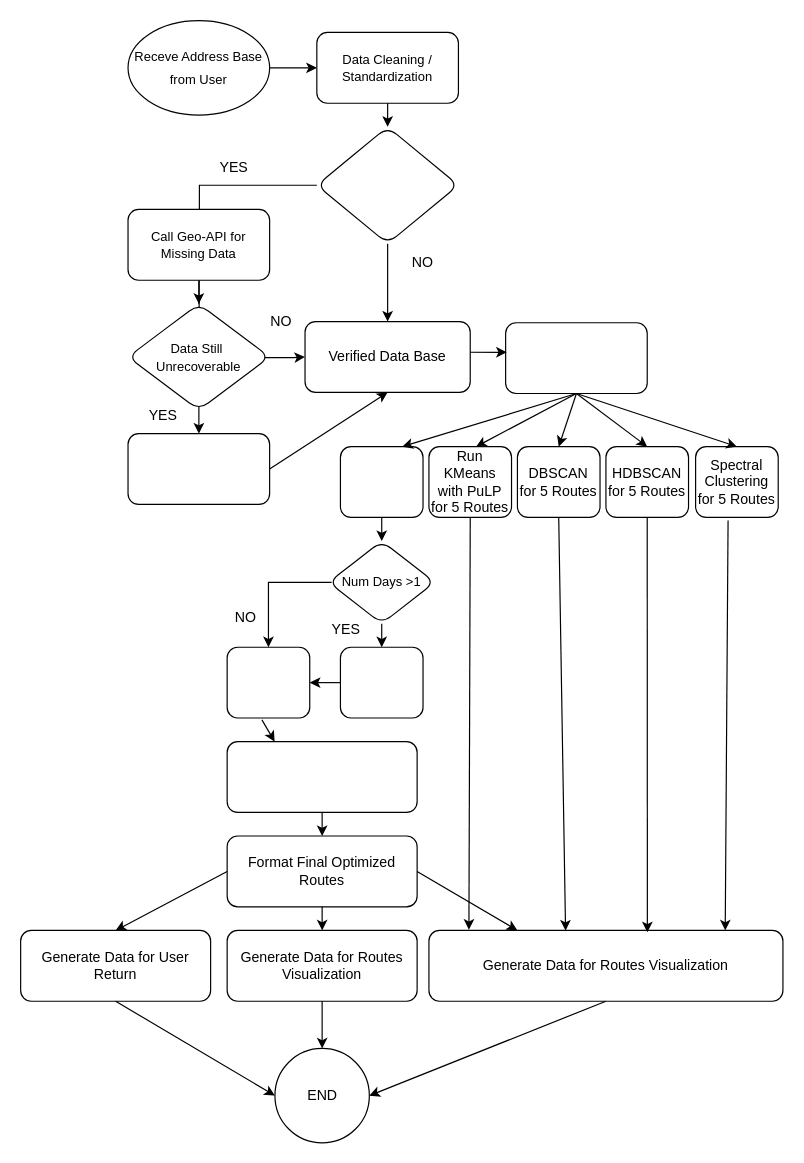
Some shapes in this 804 by 1163 pixel diagram are drawn without their labels. Here are the shapes that lost their labels. From the top down, the centre of each, then its label:
point (387, 185): Identify Missing ESSENTIAL Data
point (575, 358): Duplicate Base for All Models
point (198, 468): Drop Unrecoverable Rows
point (381, 481): Run KMeans with User Data
point (268, 682): Call Distance API
point (381, 682): Run KMeans with for N Days
point (321, 776): Start Route Optimisation (Greedly Algorithm)
